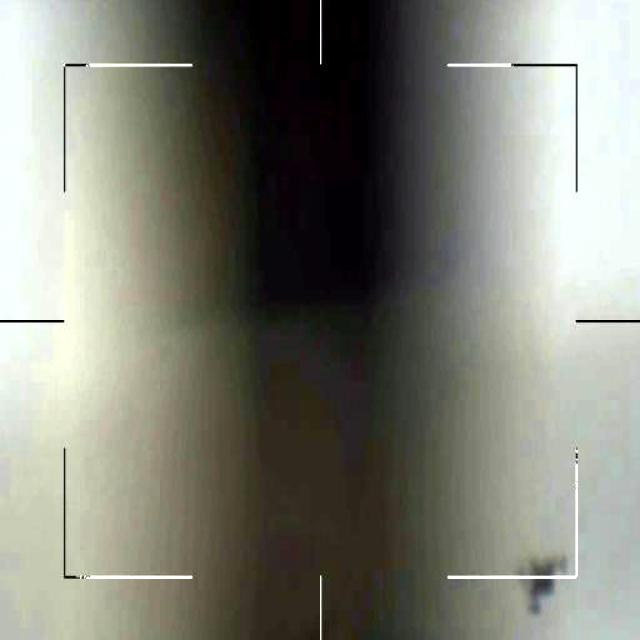bird: (519, 560, 575, 611)
